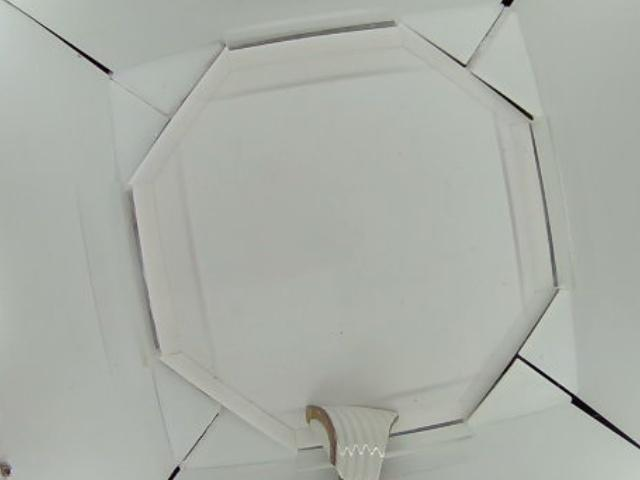China: (306, 401, 407, 480)
